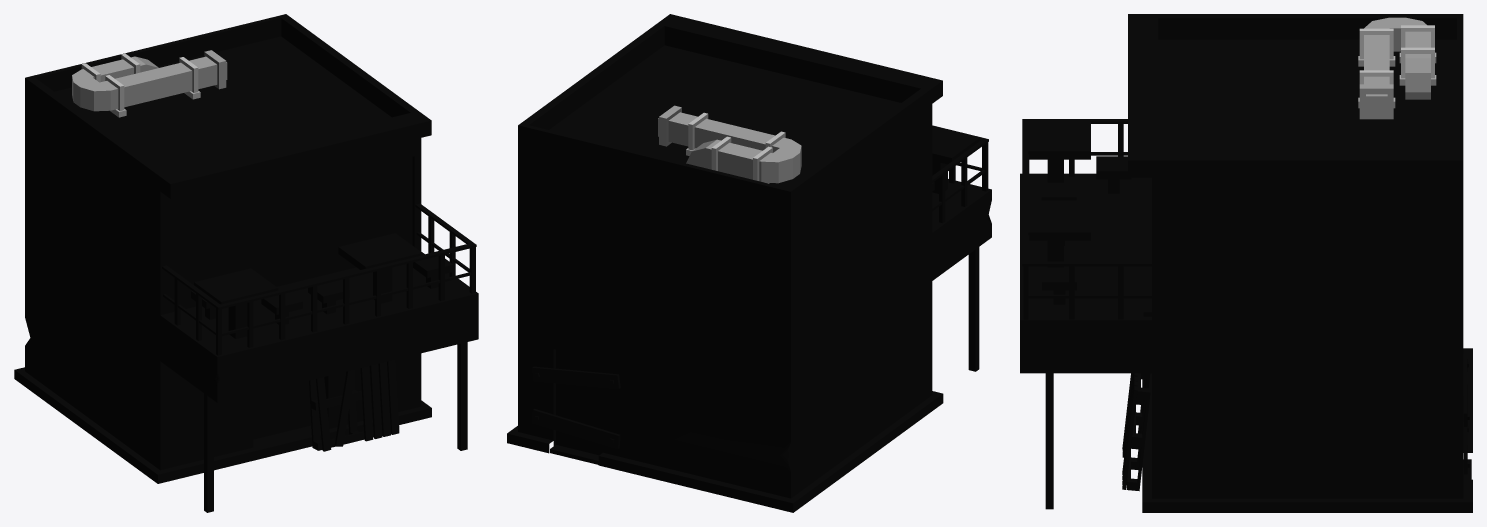
Rendered from SA_Bld_CoffeeShop_Damaged_01.gltf.
3 views of the same model, side by side, from view 1: azimuth 30°, elevation 25°; view 2: azimuth 150°, elevation 25°; view 3: azimuth 270°, elevation 25° (orthographic). The views are drawn at different scales.
Visible parts, largest first — view 1: SA_Bld_CoffeeShop_Damaged_01; view 2: SA_Bld_CoffeeShop_Damaged_01; view 3: SA_Bld_CoffeeShop_Damaged_01.
Boxes of the visible parts, bbox=[...] form: SA_Bld_CoffeeShop_Damaged_01: bbox=[14, 14, 478, 512]; SA_Bld_CoffeeShop_Damaged_01: bbox=[507, 14, 991, 512]; SA_Bld_CoffeeShop_Damaged_01: bbox=[1020, 14, 1472, 512].
Bounding box in the file's own units: 10.4 × 11.41 × 12.92.
1 material, 1 textured.
